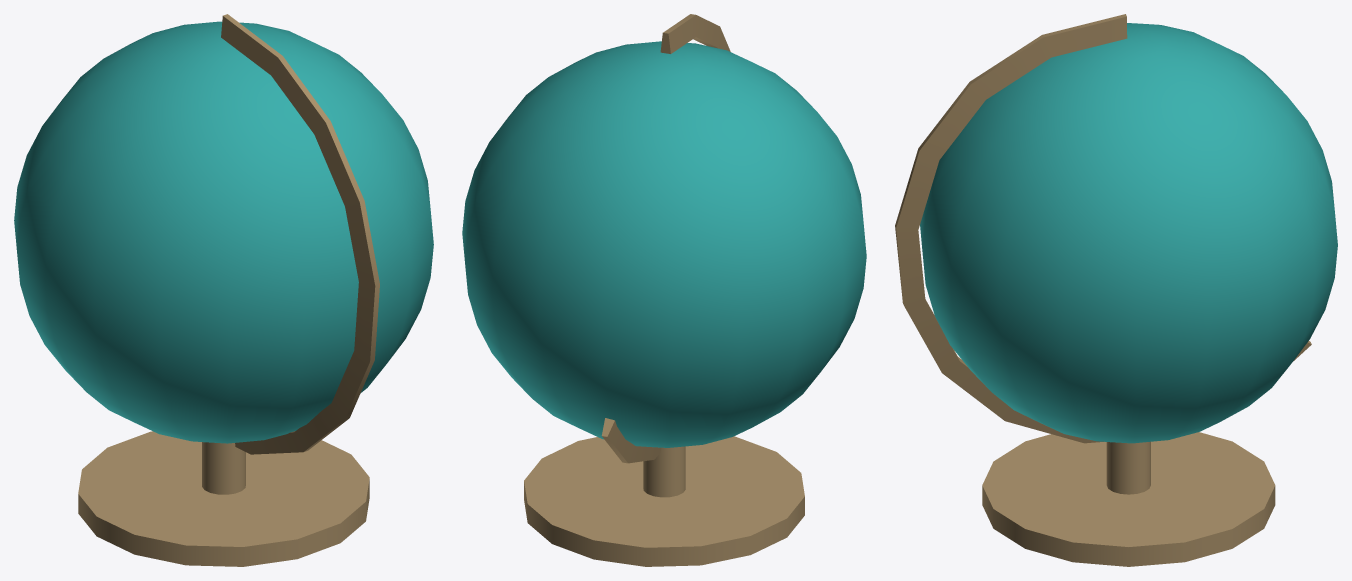
Rendered from Wereldbol.fbx.
The picture shows the model from 3 angles, left to right: view 1: azimuth 30°, elevation 25°; view 2: azimuth 150°, elevation 25°; view 3: azimuth 270°, elevation 25°; orthographic projection. The views are drawn at different scales.
Parts seen in each view (by area): view 1: pasted__pPipe2; view 2: pasted__pPipe2; view 3: pasted__pPipe2.
Boxes of the visible parts, x1,y1,x2,y2 form: pasted__pPipe2: (14, 14, 433, 566); pasted__pPipe2: (462, 14, 866, 566); pasted__pPipe2: (895, 14, 1337, 566).
Bounding box in the file's own units: 0.5654 × 0.7241 × 0.5936.
